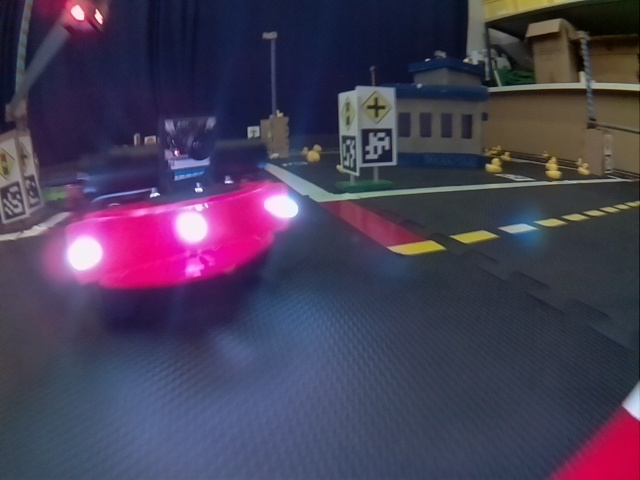Duckie: (546, 164, 561, 179), (486, 158, 499, 173), (307, 152, 320, 162), (579, 166, 587, 175), (504, 151, 510, 160), (542, 151, 548, 158)
Duckiebot: (67, 119, 293, 299)
Intersection sign: (362, 91, 391, 123)
QR code: (362, 129, 394, 166), (2, 185, 25, 223), (340, 136, 357, 173), (26, 176, 42, 209)
Signal sign: (1, 140, 17, 180), (339, 96, 357, 130)
Traffic light: (60, 3, 103, 37)
